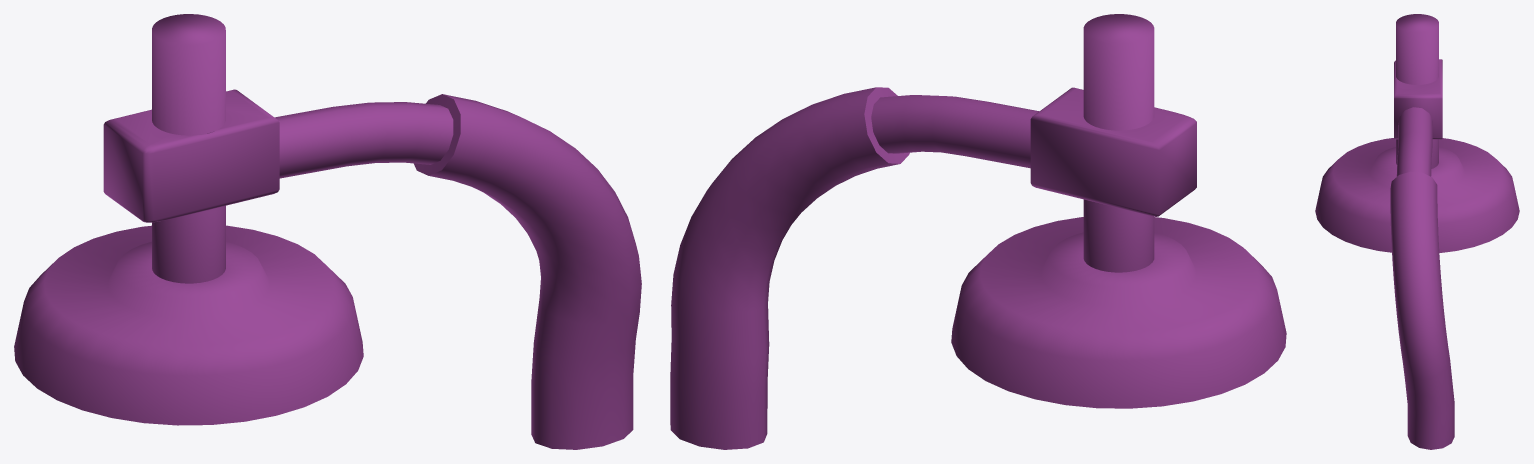
Rendered from engel_parcal.fbx.
3 views of the same model, side by side, from view 1: azimuth 30°, elevation 25°; view 2: azimuth 150°, elevation 25°; view 3: azimuth 270°, elevation 25° (orthographic). The views are drawn at different scales.
Parts seen in each view (by area): view 1: engel, engel.002, engel.001; view 2: engel, engel.002, engel.001; view 3: engel, engel.002, engel.001.
Part boxes in pixels (x1,y1,x2,y2): engel: [103, 89, 641, 449]; engel.002: [14, 225, 363, 425]; engel.001: [152, 14, 225, 283]; engel: [670, 87, 1196, 449]; engel.002: [951, 217, 1286, 408]; engel.001: [1083, 14, 1154, 272]; engel: [1390, 59, 1454, 449]; engel.002: [1315, 138, 1519, 252]; engel.001: [1396, 14, 1438, 168].
Size of the model in its own units: 650 by 523 by 325.
1 material, 1 textured.
